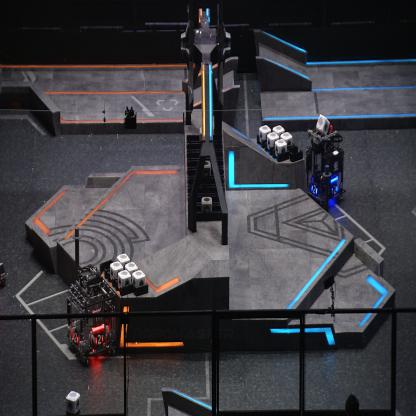car: (66, 265, 118, 362), (303, 125, 345, 204)
